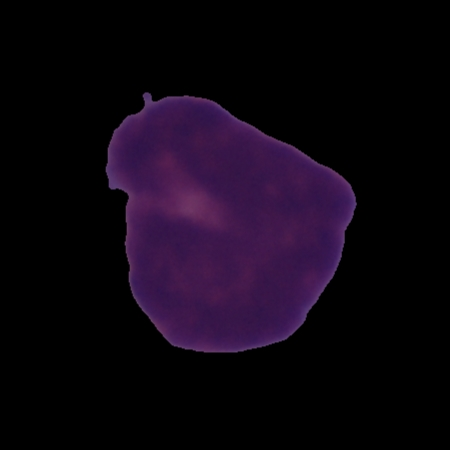ALL: (102, 88, 361, 356)
